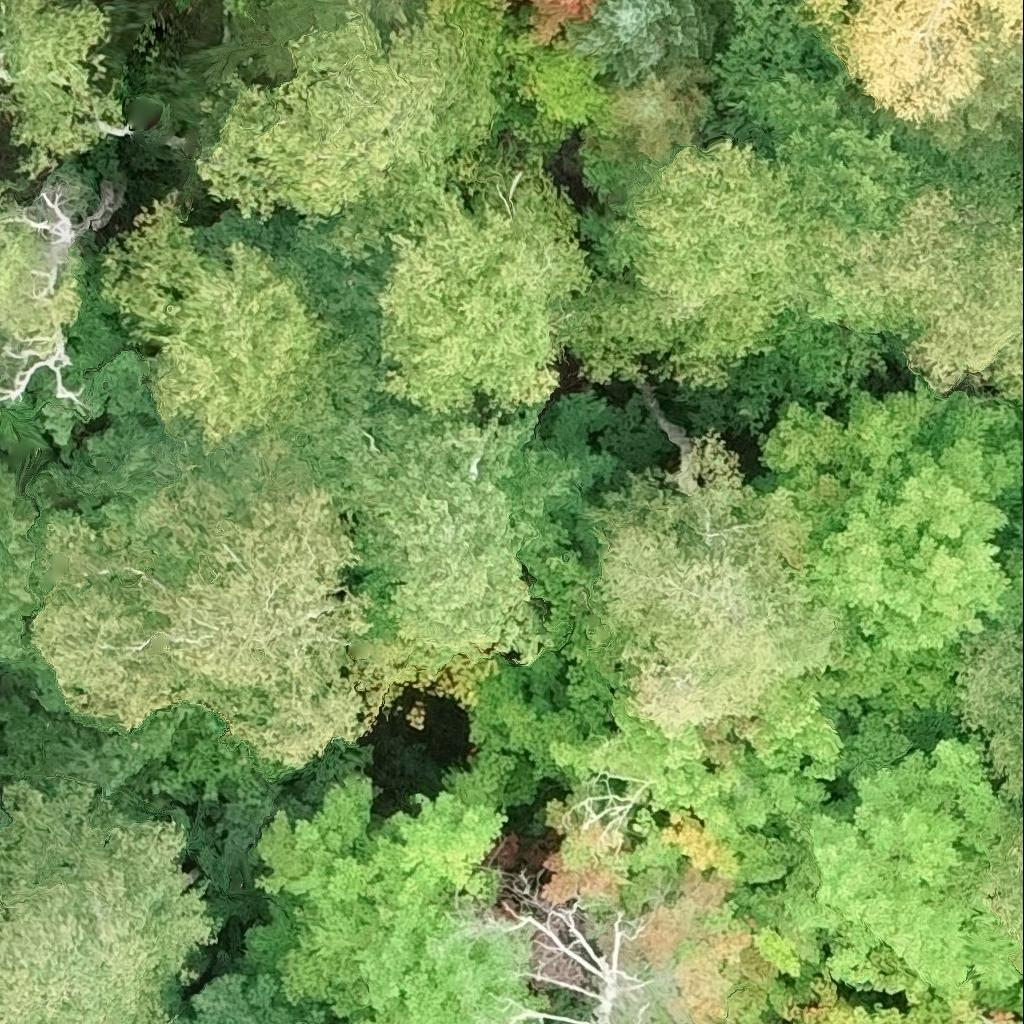crown: (457, 587, 854, 1023), (563, 77, 1023, 408), (34, 431, 386, 771), (748, 384, 1023, 740), (191, 0, 508, 262), (246, 753, 553, 1023), (577, 429, 847, 736), (752, 717, 1023, 1009), (108, 188, 371, 450), (377, 134, 591, 424), (340, 415, 564, 667), (0, 778, 216, 1023), (801, 0, 1023, 130), (458, 898, 651, 1023), (958, 632, 1023, 976), (0, 0, 129, 168), (0, 182, 87, 419), (113, 707, 298, 804), (562, 0, 715, 81), (796, 973, 1023, 1023), (263, 0, 409, 41), (10, 934, 61, 985), (528, 0, 583, 34), (420, 503, 463, 545), (998, 513, 1023, 561)
